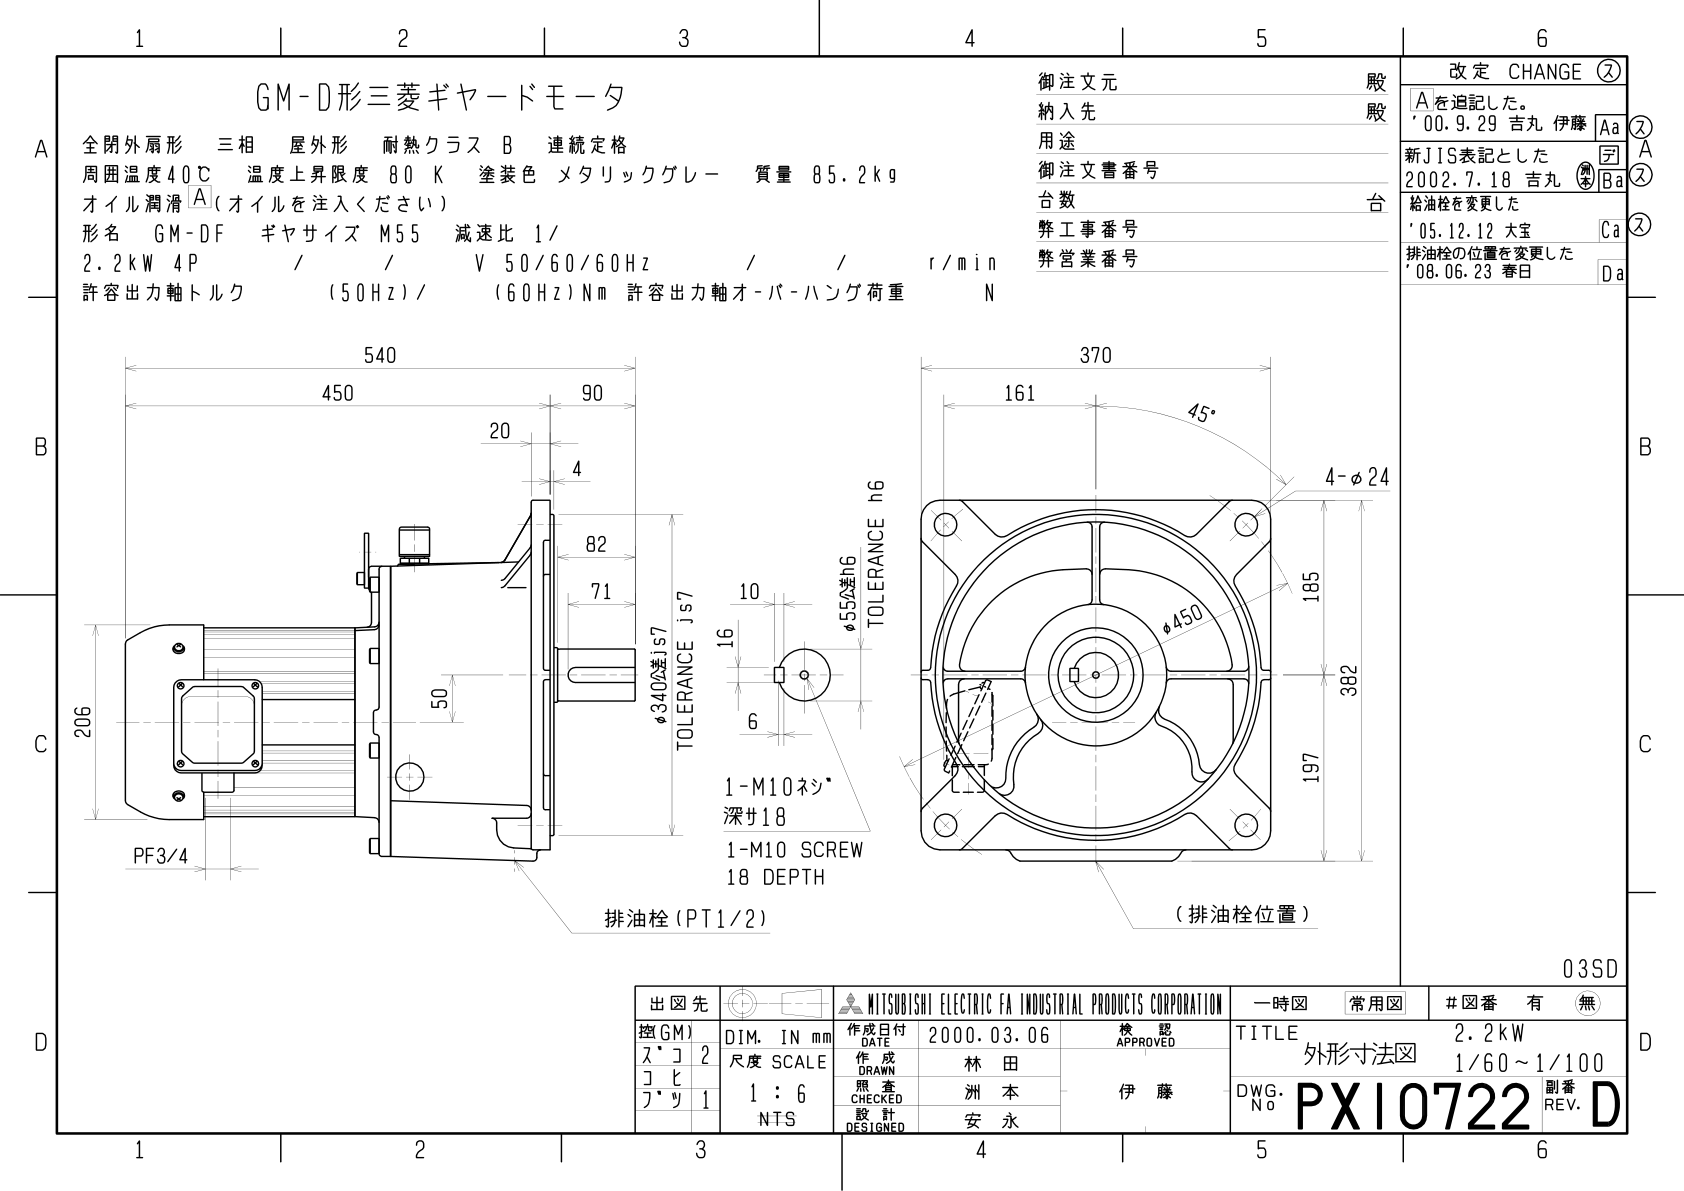GM_D_屋外＿三相_フランジ: (63, 315, 1395, 963)
